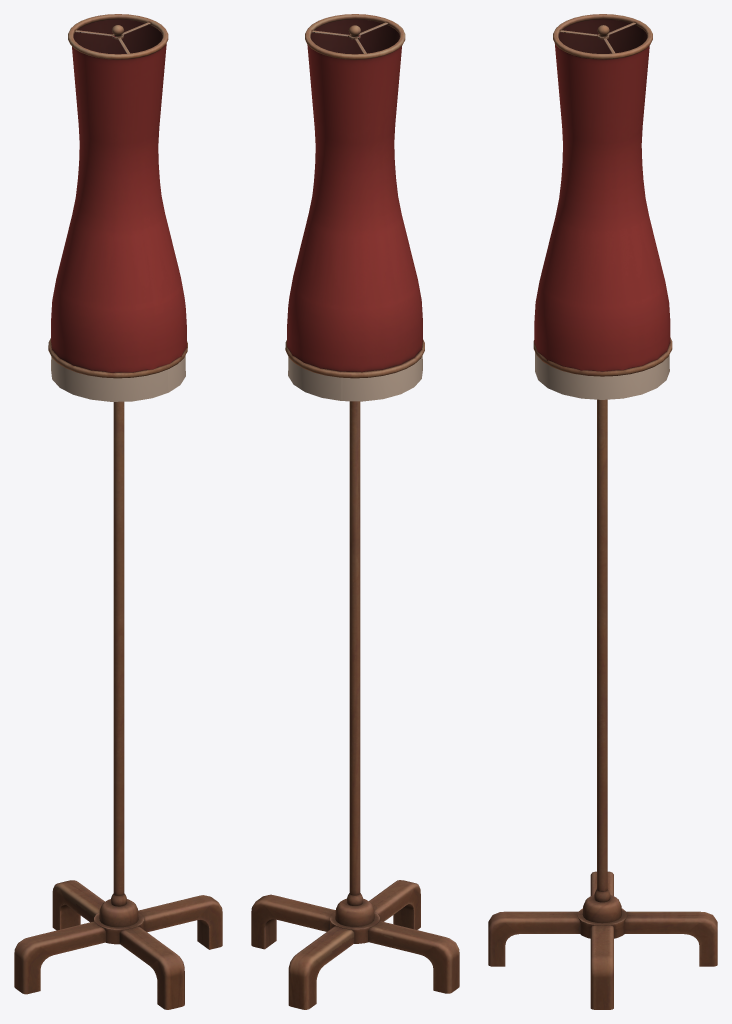
Rendered from SM_LampTall_03.fbx.
3 renders of one model, left to right at view 1: azimuth 30°, elevation 25°; view 2: azimuth 150°, elevation 25°; view 3: azimuth 270°, elevation 25°, orthographic.
Visible parts, largest first — view 1: SM_LampTall_03_LOD0; view 2: SM_LampTall_03_LOD0; view 3: SM_LampTall_03_LOD0.
Part boxes in pixels (x1,y1,x2,y2): SM_LampTall_03_LOD0: (14,14,222,1009); SM_LampTall_03_LOD0: (251,14,459,1009); SM_LampTall_03_LOD0: (488,14,717,1009).
Size of the model in its own units: 48.18 by 48.18 by 217.
1 material, 1 textured.
